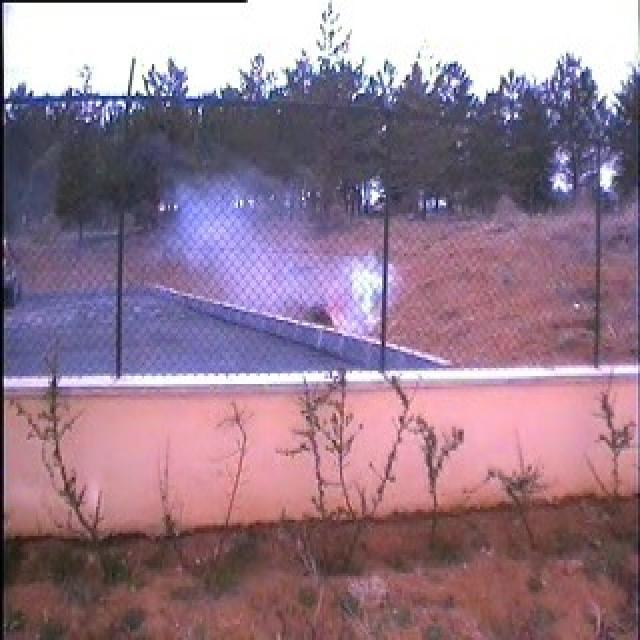Smoke: (174, 176, 383, 338)
